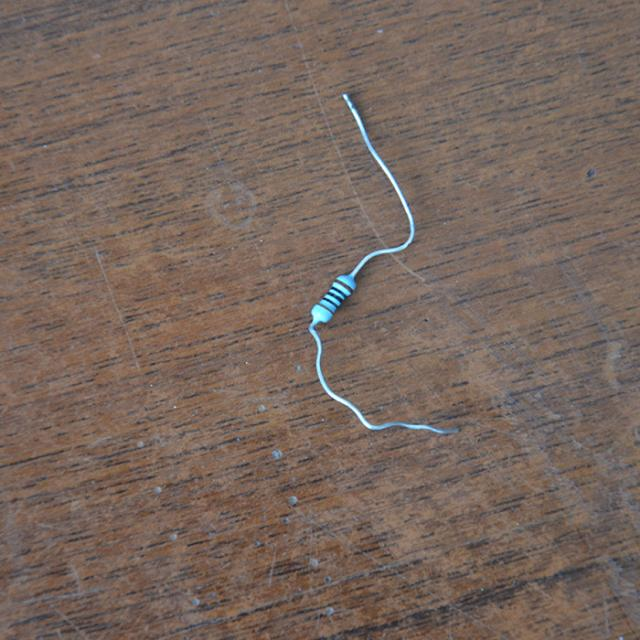Resistor Carbon-Film: (305, 270, 363, 329)
